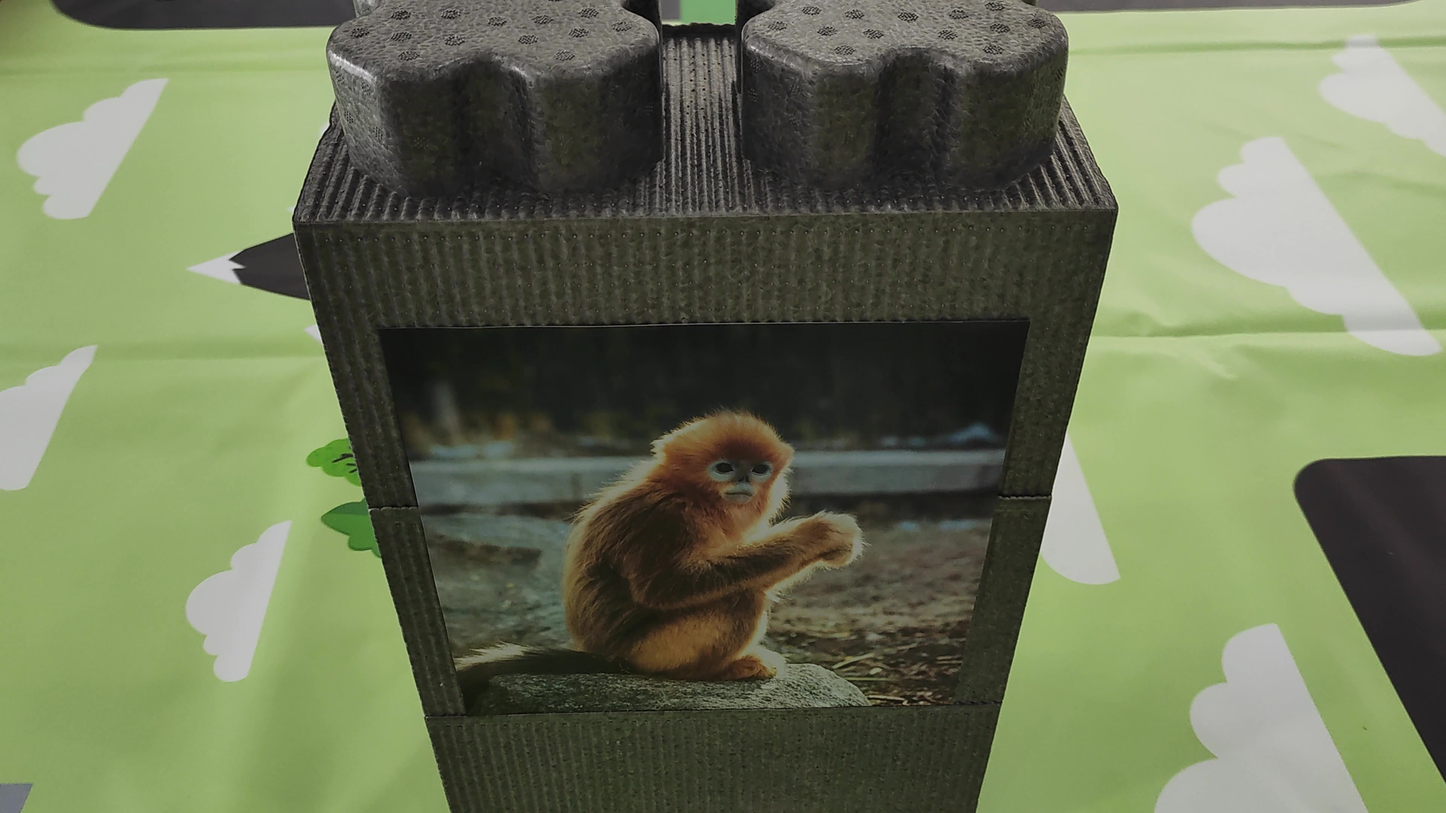monkey: (448, 385, 846, 719)
